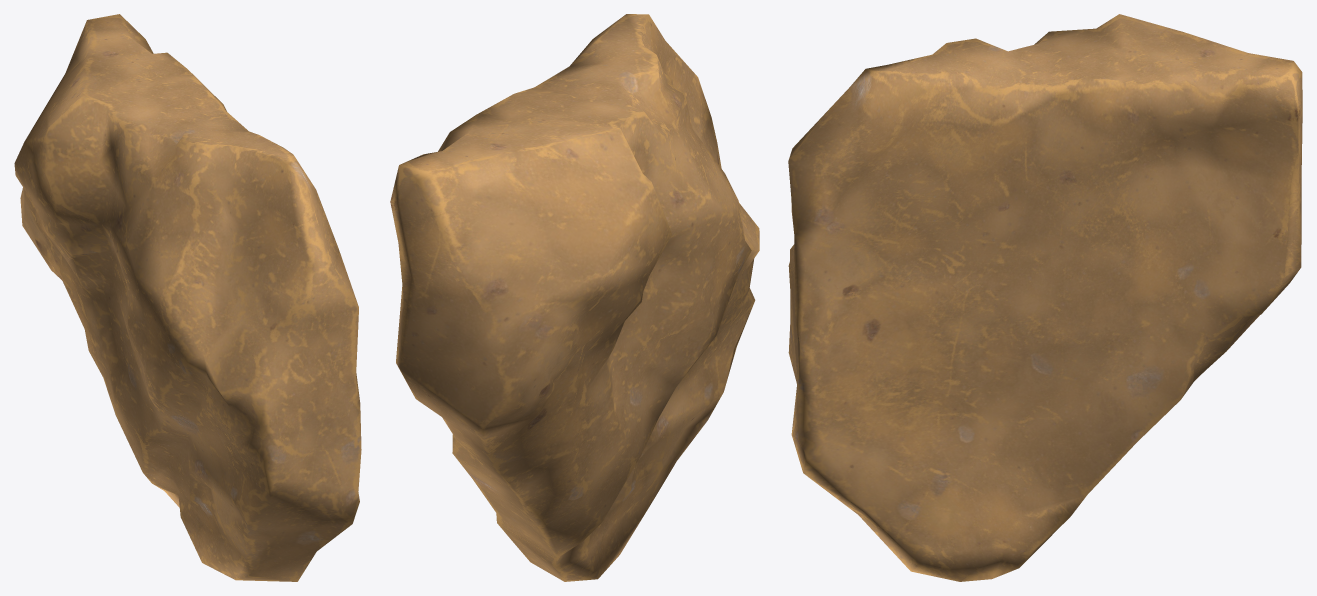
File: block_sand_rock.glb
3 renders of one model, left to right at view 1: azimuth 30°, elevation 25°; view 2: azimuth 150°, elevation 25°; view 3: azimuth 270°, elevation 25°, orthographic. The views are drawn at different scales.
Visible parts, largest first — view 1: Low; view 2: Low; view 3: Low.
Part boxes in pixels (x1,y1,x2,y2): Low: (14,14,361,581); Low: (390,14,759,581); Low: (788,14,1302,581).
Size of the model in its own units: 0.816 by 2 by 1.89.
1 material, 1 textured.
